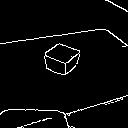cube: (36, 39, 86, 80)
